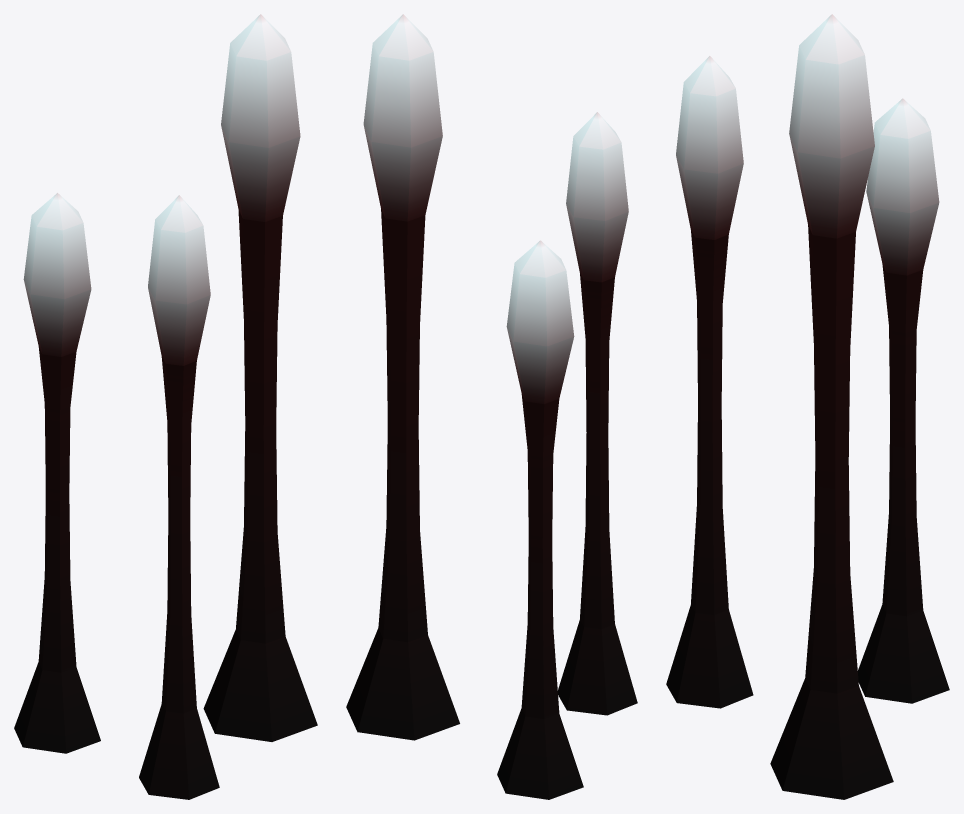
The model's file is entity761196.glb.
3 renders of one model, left to right at view 1: azimuth 30°, elevation 25°; view 2: azimuth 150°, elevation 25°; view 3: azimuth 270°, elevation 25°, orthographic. The views are drawn at different scales.
Parts seen in each view (by area): view 1: node_SM_Env_Plant_Kelp_06; view 2: node_SM_Env_Plant_Kelp_06; view 3: node_SM_Env_Plant_Kelp_06.
Boxes of the visible parts, x1,y1,x2,y2 form: node_SM_Env_Plant_Kelp_06: (14,14,317,799); node_SM_Env_Plant_Kelp_06: (346,14,637,799); node_SM_Env_Plant_Kelp_06: (666,14,949,799).
Bounding box in the file's own units: 1.09 × 2.8 × 0.9502.
1 material, 1 textured.
